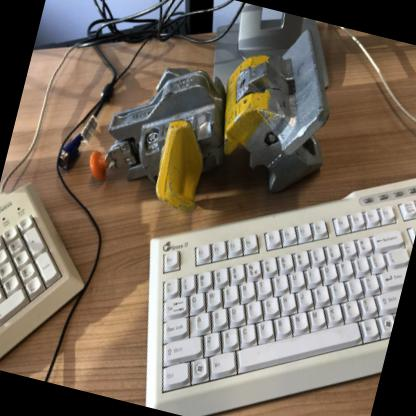Twistlock: (80, 0, 363, 252)
